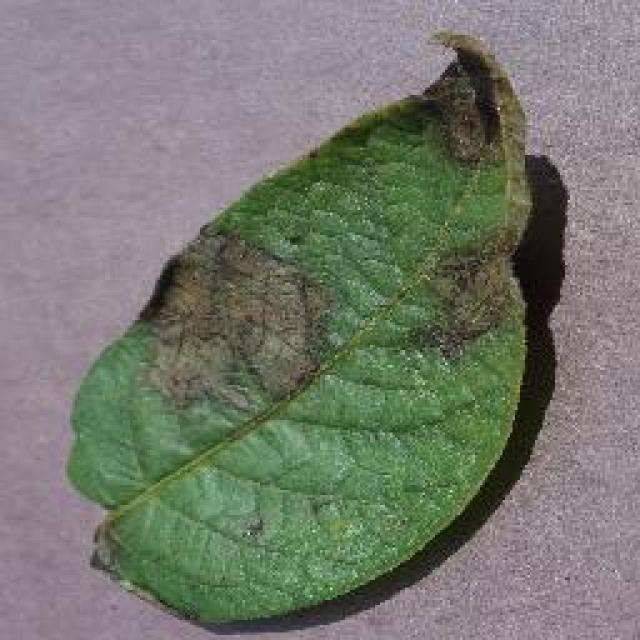late_blight: (60, 28, 552, 630)
